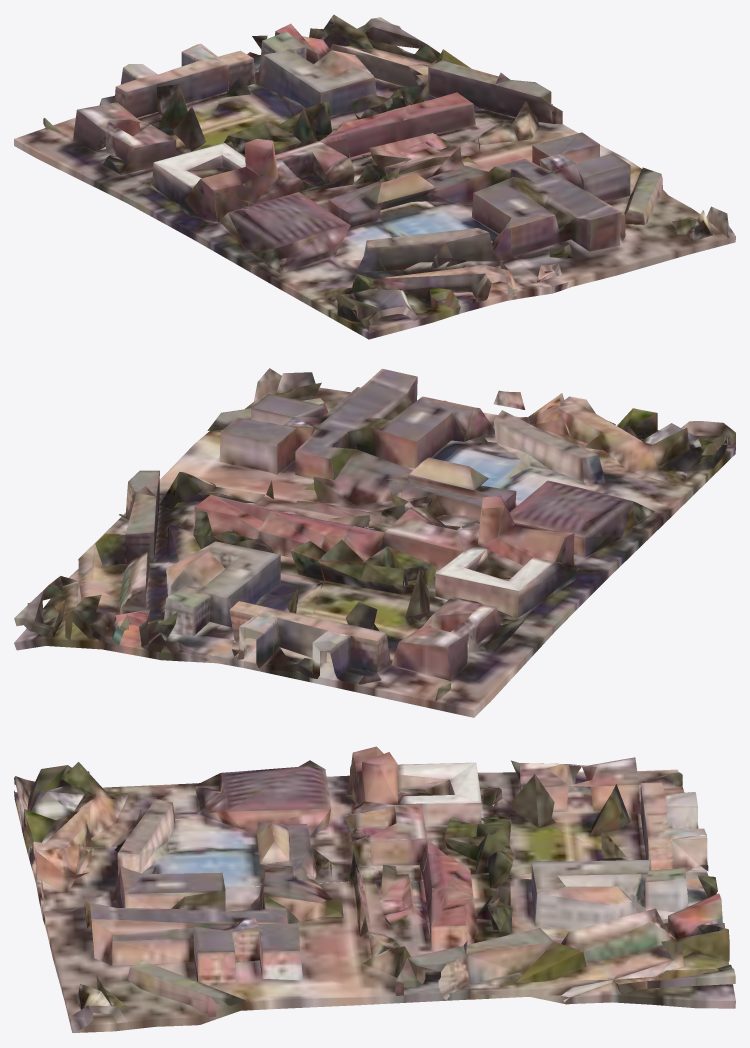
3 views of the same model, one above another, from view 1: azimuth 30°, elevation 25°; view 2: azimuth 150°, elevation 25°; view 3: azimuth 270°, elevation 25° (orthographic). The views are drawn at different scales.
Parts seen in each view (by area): view 1: Mesh_0; view 2: Mesh_0; view 3: Mesh_0.
Part boxes in pixels (<box>): Mesh_0: <box>14,14,735,339</box>; Mesh_0: <box>14,368,735,717</box>; Mesh_0: <box>14,746,735,1032</box>.
Size of the model in its own units: 266 by 49.38 by 330.
Materials: 2 (2 with a texture image).
